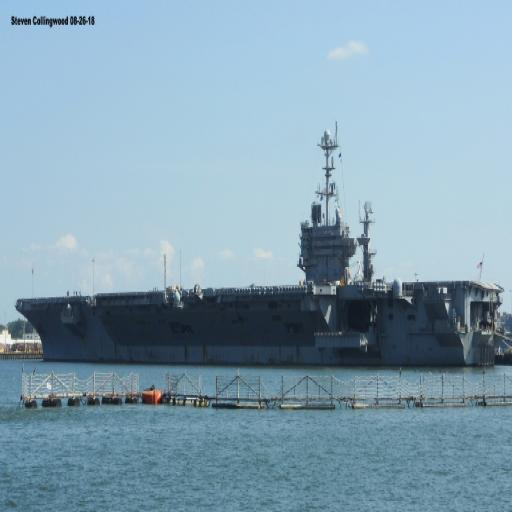Portanaves: (14, 126, 506, 371)
